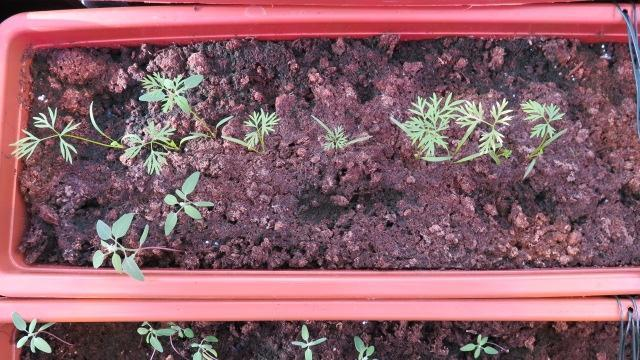weed: (158, 167, 218, 236), (452, 329, 502, 358)
